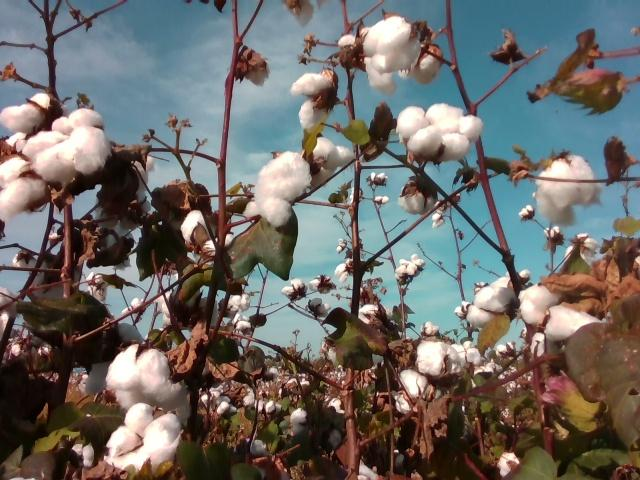cotton_ready: (23, 106, 109, 182), (107, 402, 185, 470), (108, 341, 184, 408), (518, 283, 607, 340), (398, 102, 483, 160), (536, 155, 603, 224), (255, 151, 309, 227), (364, 14, 427, 77), (0, 155, 52, 223), (355, 25, 395, 97), (466, 273, 516, 329), (290, 73, 336, 131), (182, 210, 236, 258), (415, 340, 471, 379), (0, 91, 51, 132), (307, 136, 355, 173), (401, 44, 443, 86), (398, 177, 441, 215), (400, 370, 445, 404), (359, 304, 395, 327), (68, 443, 95, 468), (498, 452, 521, 477), (337, 32, 358, 58), (356, 465, 379, 480)
